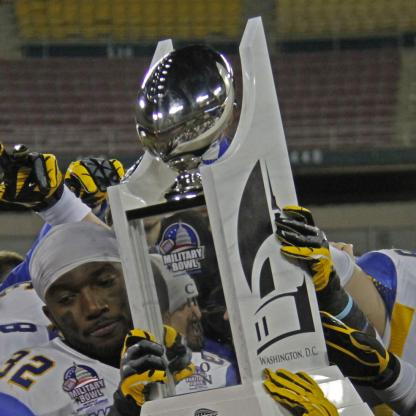Helmet: (134, 52, 241, 168)
